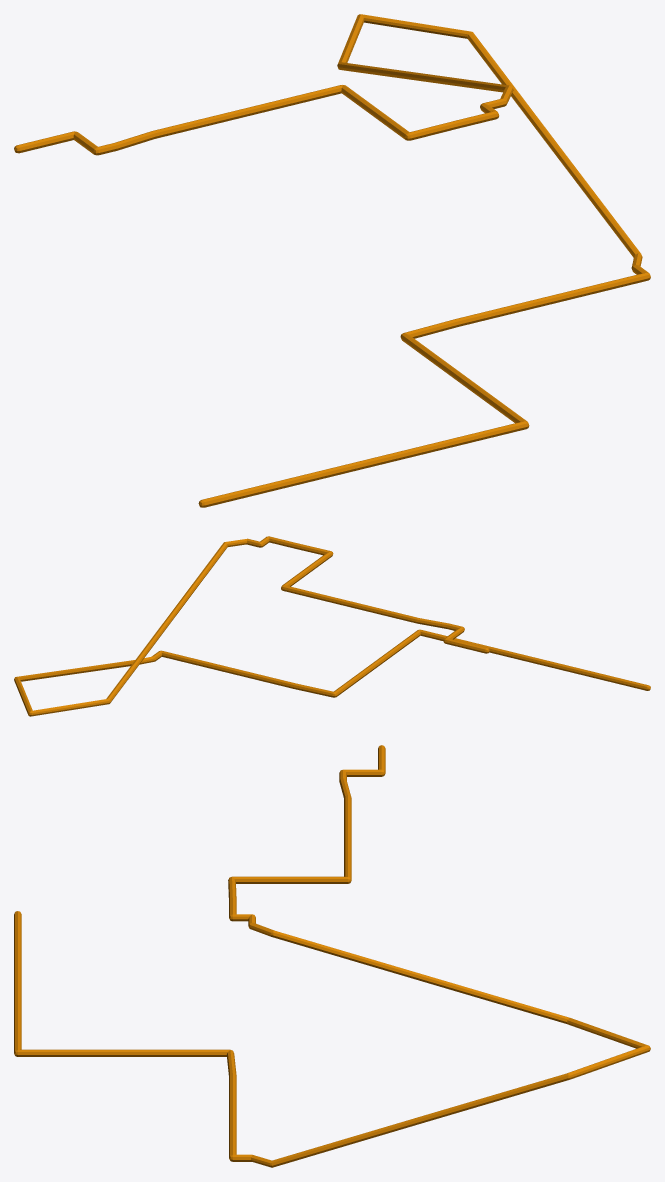
The picture shows the model from 3 angles, top to bottom: view 1: azimuth 30°, elevation 25°; view 2: azimuth 150°, elevation 25°; view 3: azimuth 270°, elevation 25°; orthographic projection. The views are drawn at different scales.
Bounding box in the file's own units: 1548 × 520 × 1648.
